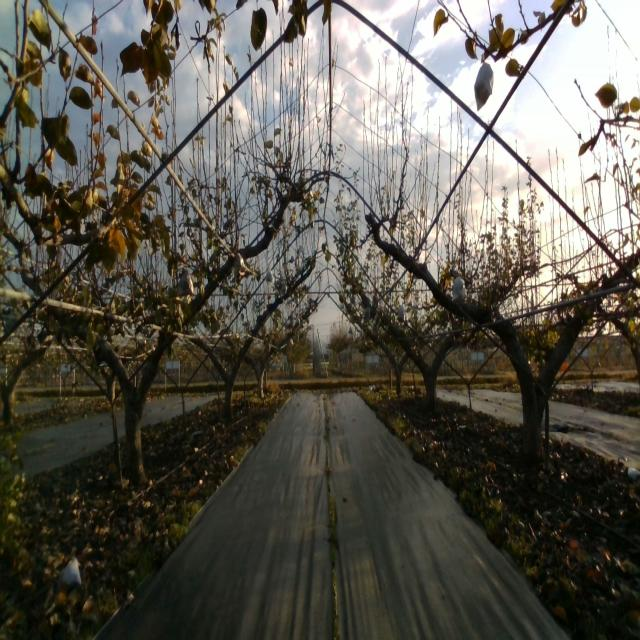pearbags: (474, 53, 493, 110), (176, 269, 194, 297), (452, 275, 468, 304), (233, 252, 246, 278)
